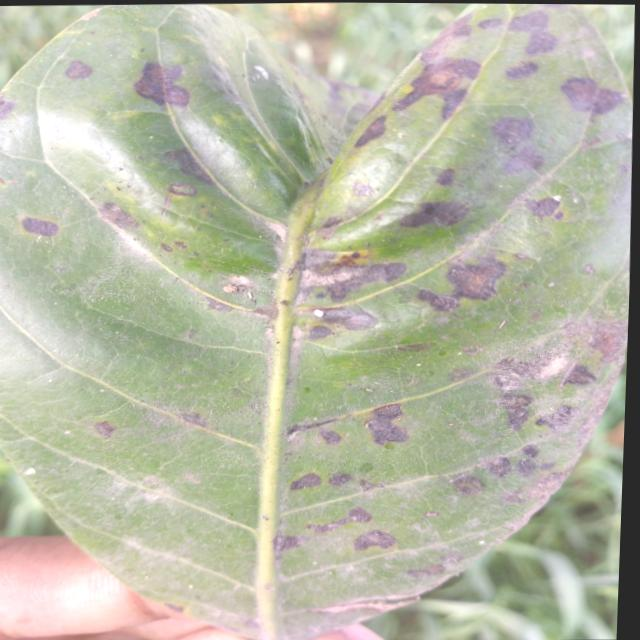black die: (289, 250, 411, 337), (398, 51, 485, 121), (125, 57, 211, 110), (354, 398, 426, 460), (490, 380, 550, 440), (560, 72, 631, 116), (16, 212, 69, 239), (60, 55, 99, 78)
